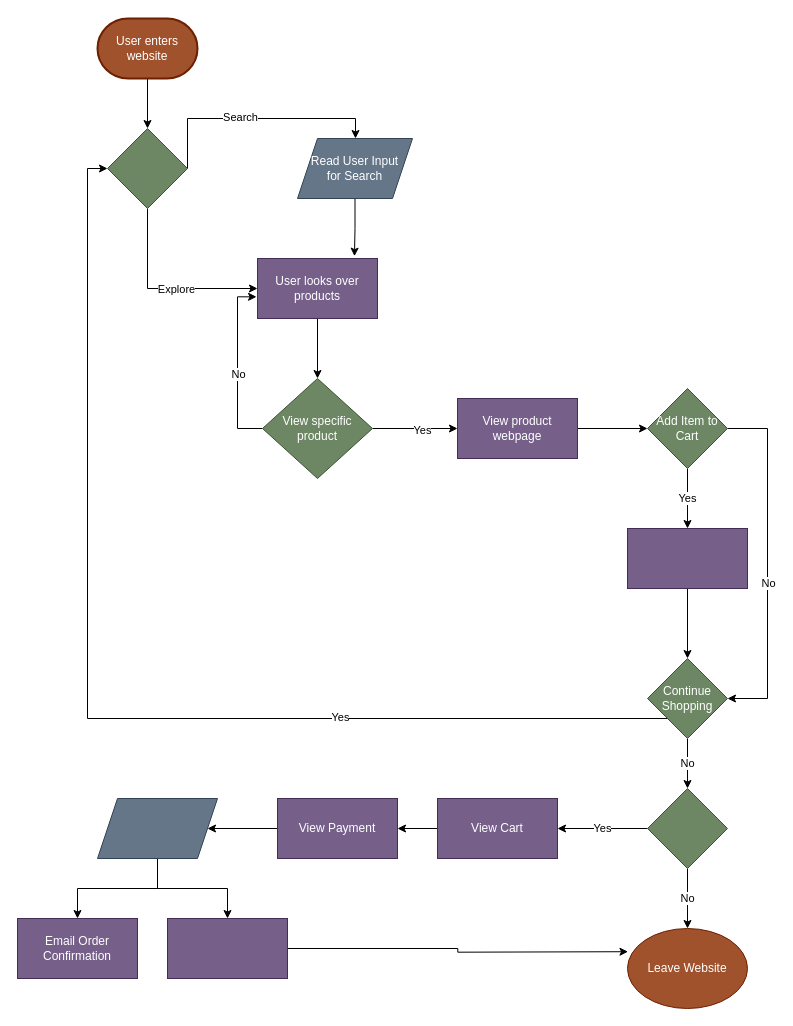
Image size: 793x1026. Some labels were removed from this diagram. The shapes that lost their labels are listed below. From the top down, each one's centre as x and y in pixels, then its label:
(147,168): Search or Explore
(687,558): Cart Confirmation
(157,828): Read User Payment Information
(687,828): Checkout
(227,948): View Order Confirmation
